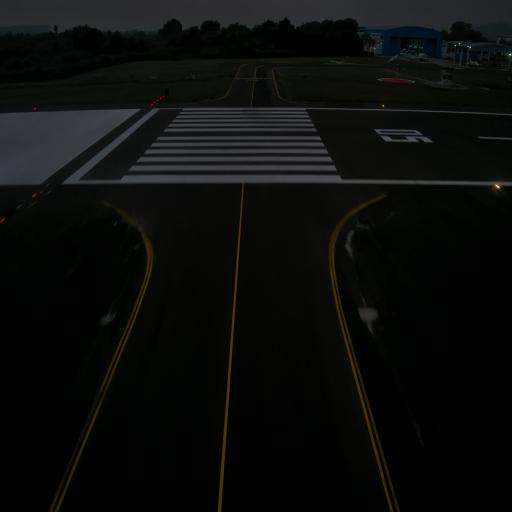on: (494, 180, 504, 196), (30, 187, 39, 201), (0, 211, 8, 225), (16, 199, 24, 212), (44, 180, 51, 190), (33, 104, 37, 113), (382, 102, 386, 110)
